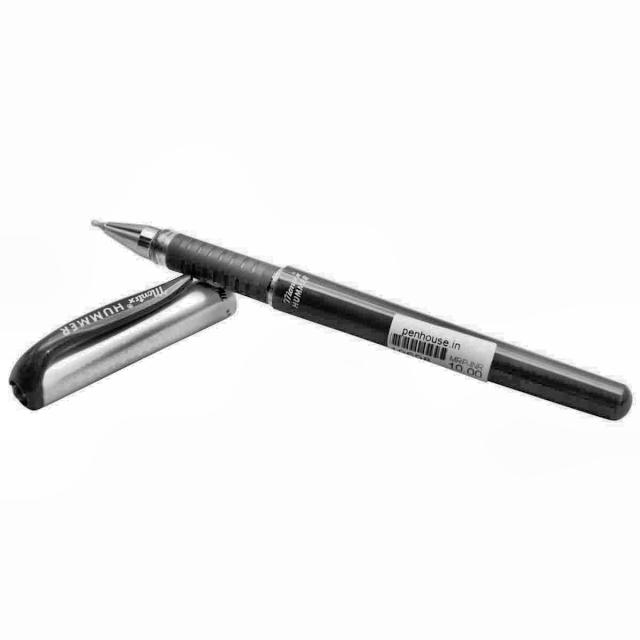Pen: (9, 220, 634, 421)
